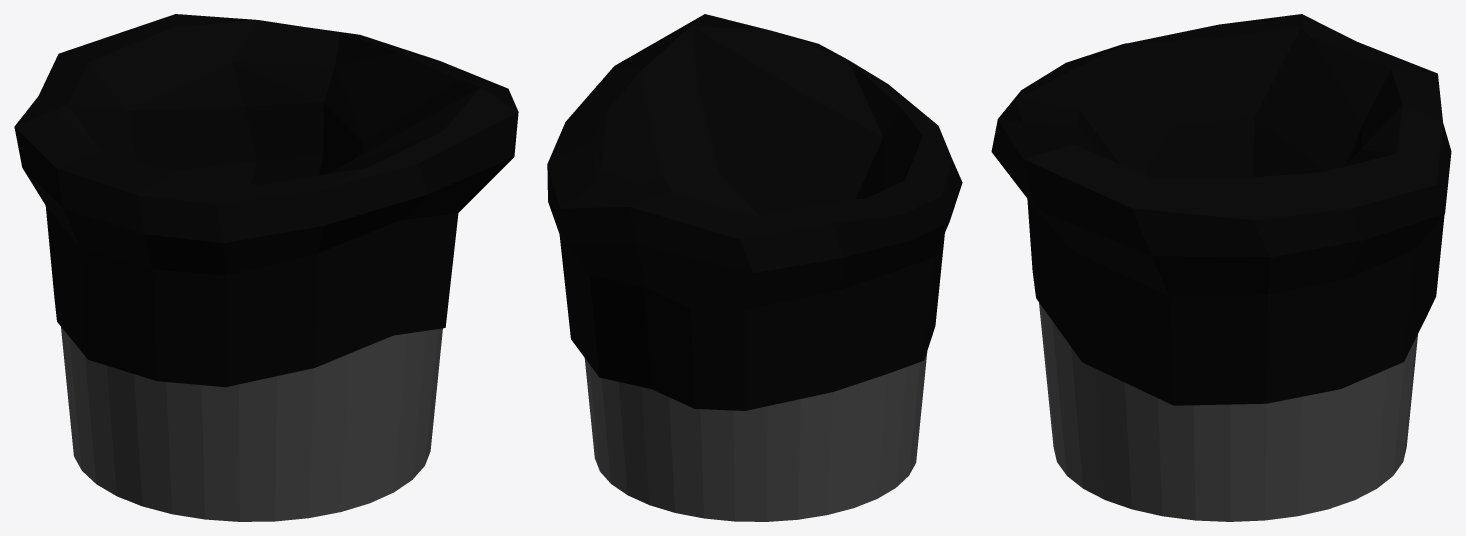
The model's file is TrashCan3.fbx.
3 views of the same model, side by side, from view 1: azimuth 30°, elevation 25°; view 2: azimuth 150°, elevation 25°; view 3: azimuth 270°, elevation 25° (orthographic). The views are drawn at different scales.
Parts seen in each view (by area): view 1: TrashCan3; view 2: TrashCan3; view 3: TrashCan3.
Boxes of the visible parts, left/top/right/bottom form: TrashCan3: left=14, top=14, right=518, bottom=521; TrashCan3: left=547, top=14, right=962, bottom=521; TrashCan3: left=991, top=14, right=1451, bottom=521.
Bounding box in the file's own units: 263 × 234 × 260.
Materials: 1 (1 with a texture image).
